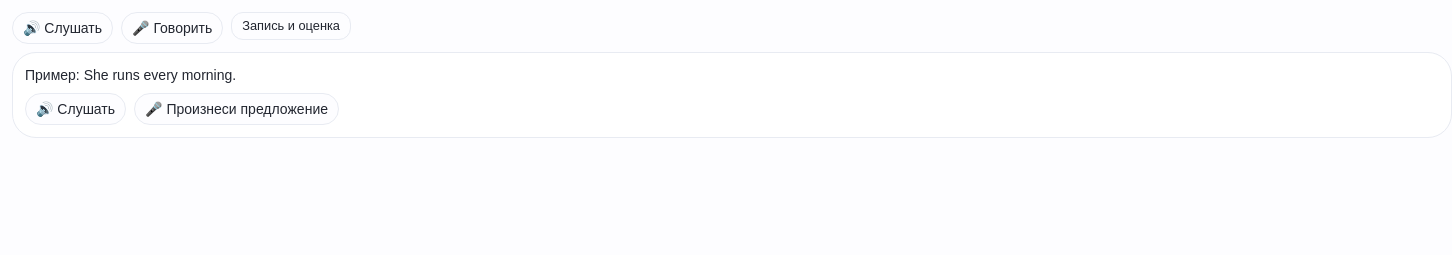
PronounceControls › checks grammar and shows native alternatives when the sentence needs work
Click the button "🎤 Говорить" at [172, 28], box [121,12,223,44]
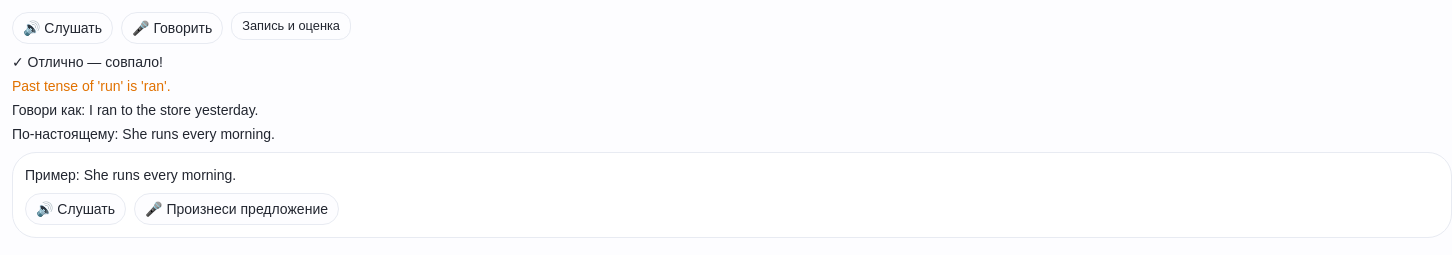
Check: the text "Говори как: I ran to the store yesterday." is shown, box [12,102,258,118]
Check: the text "По-настоящему: She runs every morning." is shown, box [12,126,275,142]
